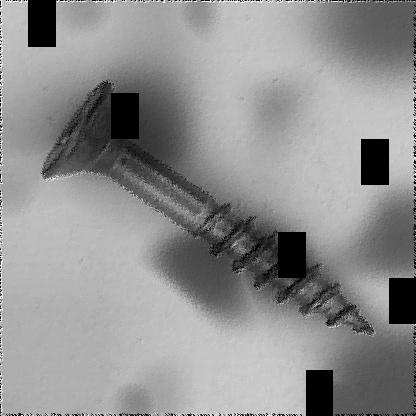metal: (38, 77, 375, 338)
